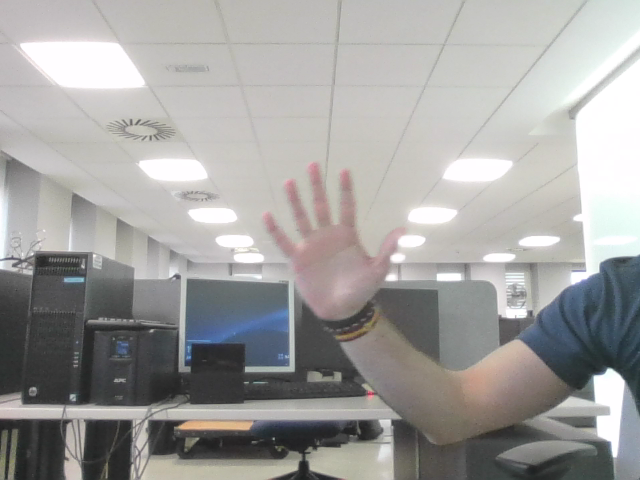Mano Abierta: (274, 174, 393, 288)
